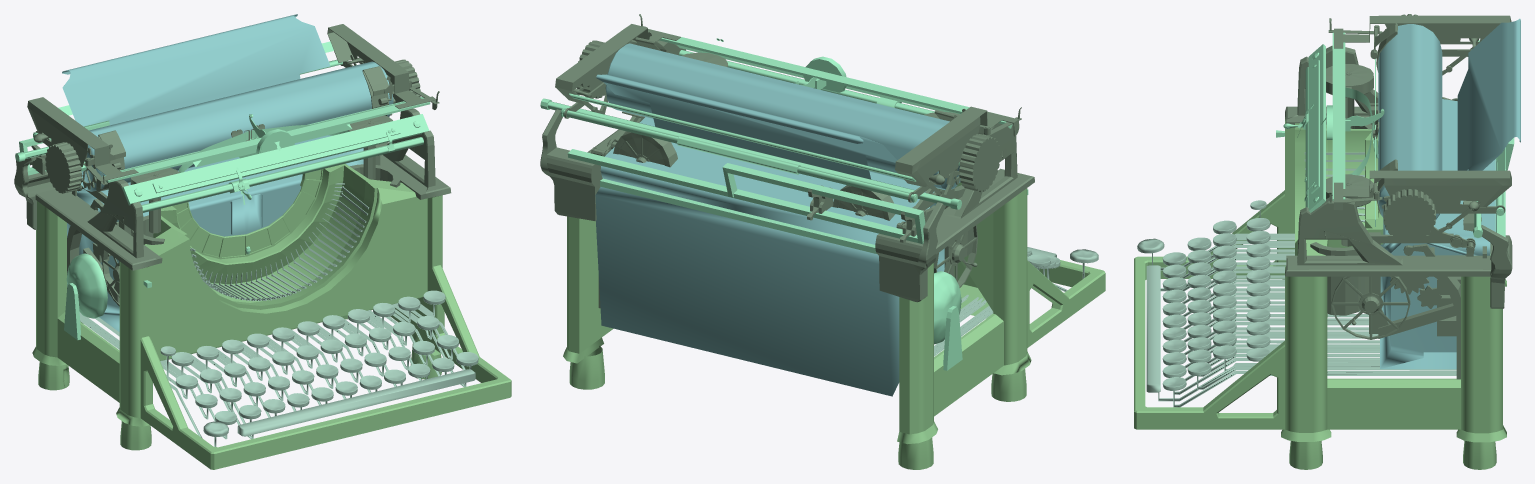
The model's file is typewriter.glb.
3 renders of one model, left to right at view 1: azimuth 30°, elevation 25°; view 2: azimuth 150°, elevation 25°; view 3: azimuth 270°, elevation 25°, orthographic. The views are drawn at different scales.
Parts seen in each view (by area): view 1: Maquina_de_escribirmaquina, Maquina_de_escribirmaquina1, Maquina_de_escribirmaquina4, Maquina_de_escribirpolySurface12, Maquina_de_escribirpolySurface103, Maquina_de_escribirpolySurface109, Maquina_de_escribirpolySurface104; view 2: Maquina_de_escribirmaquina1, Maquina_de_escribirpolySurface12, Maquina_de_escribirpolySurface103, Maquina_de_escribirpolySurface109, Maquina_de_escribirmaquina, Maquina_de_escribirpolySurface104, Maquina_de_escribirmaquina4; view 3: Maquina_de_escribirmaquina, Maquina_de_escribirpolySurface104, Maquina_de_escribirmaquina1, Maquina_de_escribirmaquina4, Maquina_de_escribirpolySurface12, Maquina_de_escribirpolySurface103, Maquina_de_escribirpolySurface109.
Boxes of the visible parts, left/top/right/bottom form: Maquina_de_escribirmaquina: left=140, top=164, right=511, bottom=469; Maquina_de_escribirmaquina1: left=62, top=14, right=393, bottom=331; Maquina_de_escribirmaquina4: left=79, top=183, right=478, bottom=446; Maquina_de_escribirpolySurface12: left=15, top=41, right=430, bottom=340; Maquina_de_escribirpolySurface103: left=14, top=97, right=249, bottom=323; Maquina_de_escribirpolySurface109: left=32, top=201, right=151, bottom=450; Maquina_de_escribirpolySurface104: left=251, top=24, right=451, bottom=199; Maquina_de_escribirmaquina1: left=595, top=43, right=960, bottom=396; Maquina_de_escribirpolySurface12: left=540, top=37, right=1028, bottom=370; Maquina_de_escribirpolySurface103: left=807, top=106, right=1034, bottom=302; Maquina_de_escribirpolySurface109: left=897, top=188, right=1031, bottom=469; Maquina_de_escribirmaquina: left=563, top=182, right=1105, bottom=389; Maquina_de_escribirpolySurface104: left=540, top=14, right=727, bottom=308; Maquina_de_escribirmaquina4: left=934, top=247, right=1098, bottom=356; Maquina_de_escribirmaquina: left=1134, top=123, right=1506, bottom=469; Maquina_de_escribirpolySurface104: left=1285, top=121, right=1512, bottom=379; Maquina_de_escribirmaquina1: left=1378, top=18, right=1520, bottom=369; Maquina_de_escribirmaquina4: left=1137, top=152, right=1456, bottom=407; Maquina_de_escribirpolySurface12: left=1276, top=32, right=1514, bottom=255; Maquina_de_escribirpolySurface103: left=1285, top=14, right=1511, bottom=129; Maquina_de_escribirpolySurface109: left=1282, top=117, right=1506, bottom=286.
Bounding box in the file's own units: 0.3833 × 0.2911 × 0.3299.
